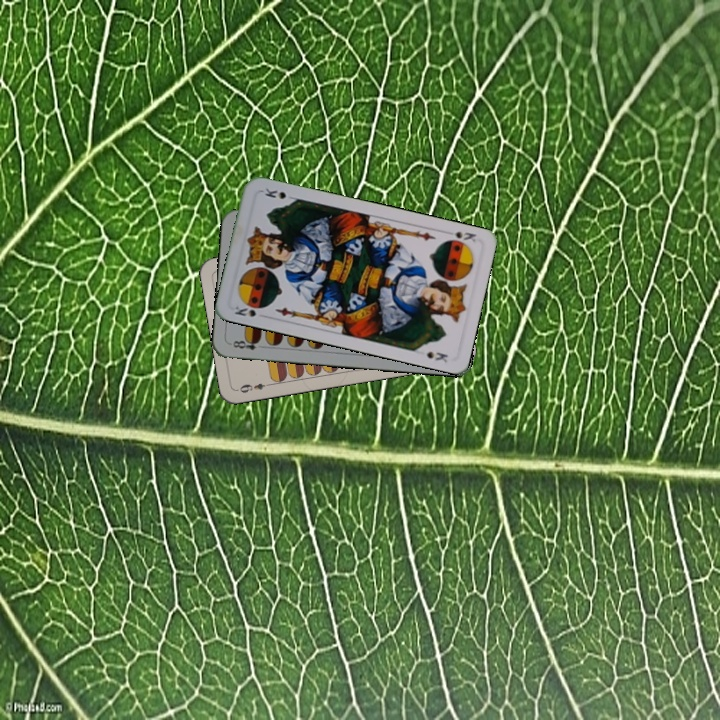E8: (227, 335, 262, 353)
E9: (234, 379, 274, 395)
SK: (231, 300, 268, 320), (441, 227, 479, 245)
